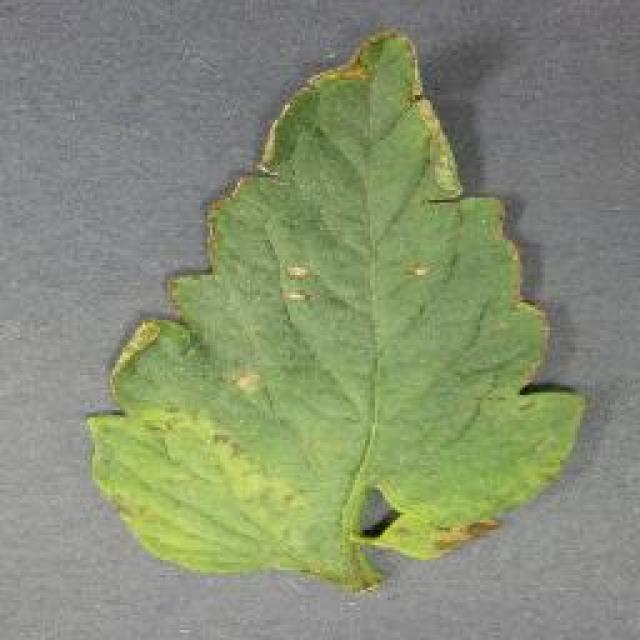Tomato___Bacterial_spot: (79, 28, 591, 596)
